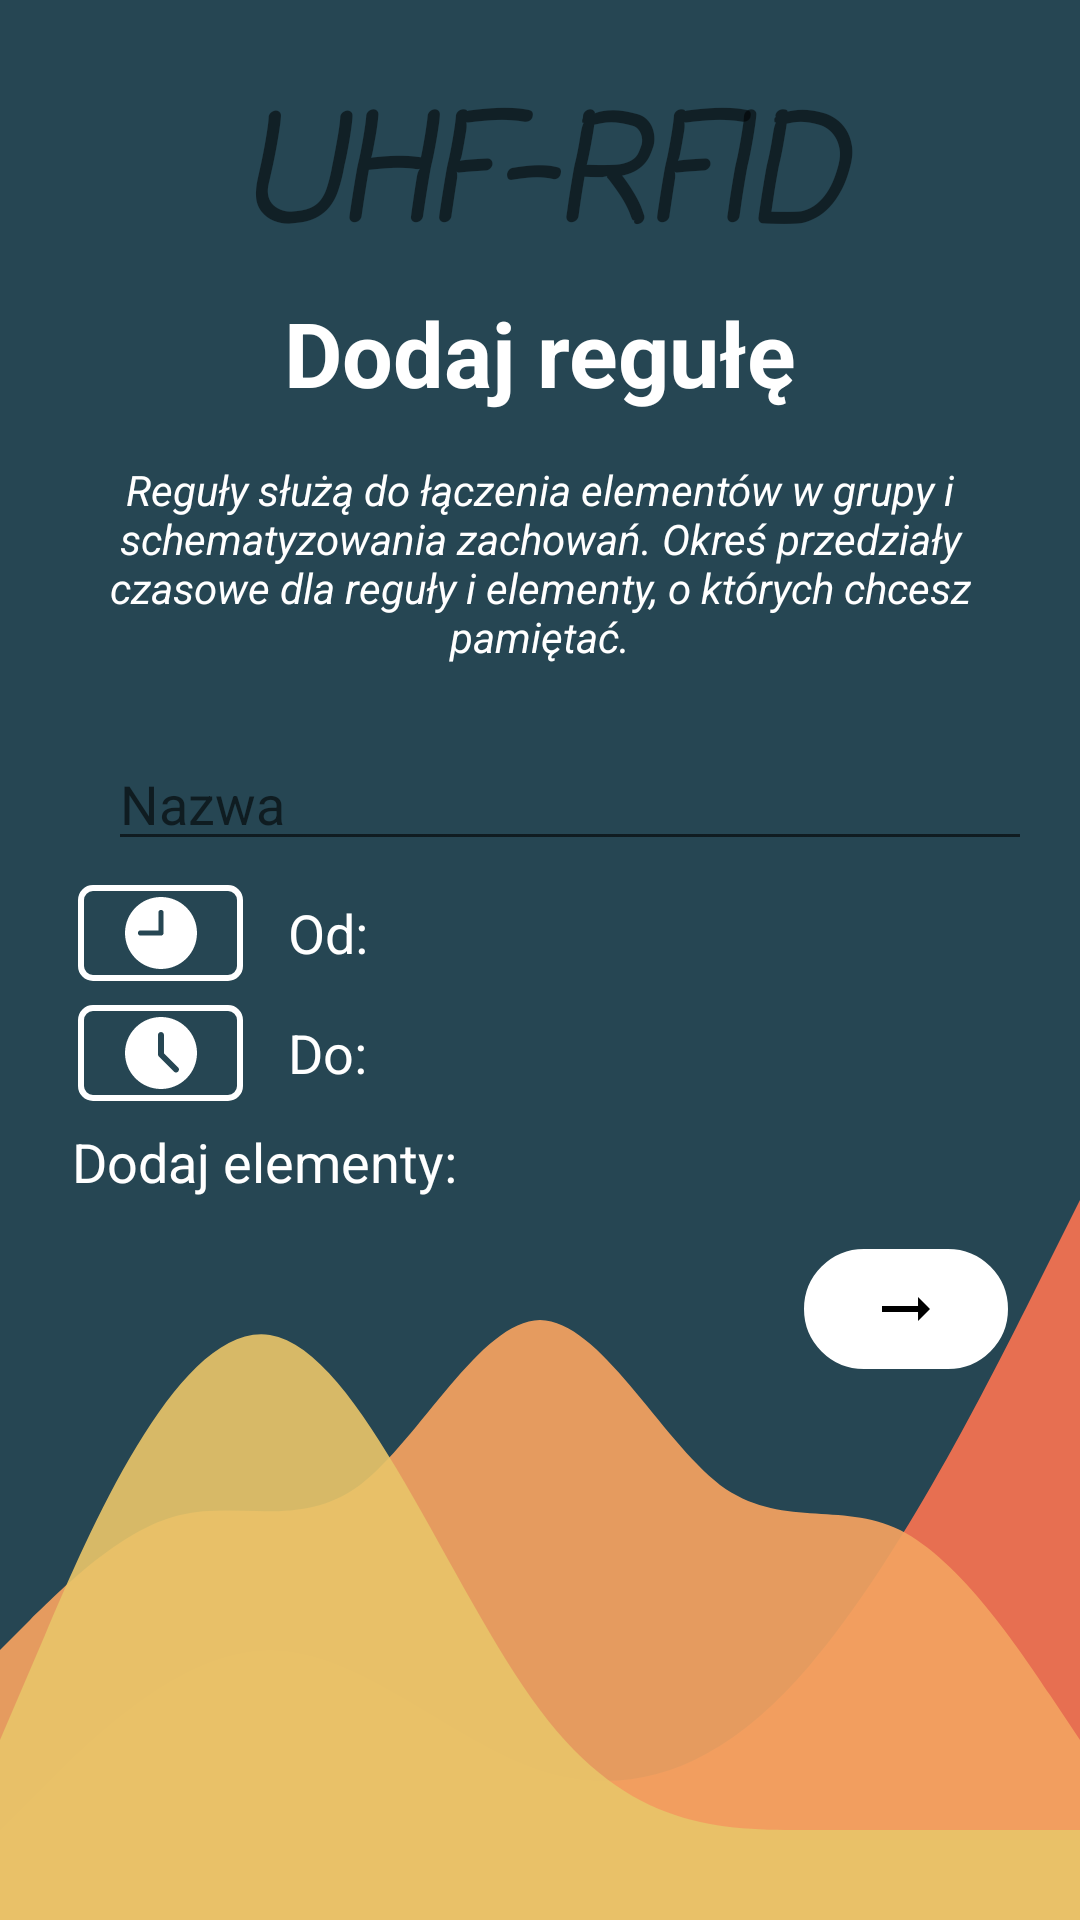

Icons on this 1080px×1920px Android screen, each with its box as bbox(x1, y1, x2, y2):
arrow right: bbox(804, 1249, 1008, 1369)
clock: bbox(78, 1005, 243, 1101)
time: bbox(78, 885, 243, 981)
